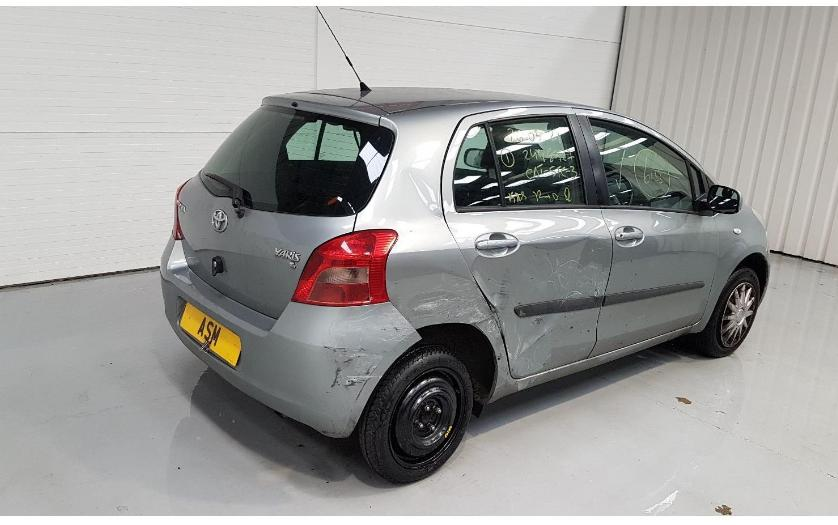Back-bumper: (161, 235, 421, 439)
Back-door: (441, 107, 612, 380)
Back-wheel: (357, 341, 474, 484)
Back-window: (489, 115, 586, 205), (454, 125, 501, 206)
Back-windshield: (200, 105, 394, 217)
Fender: (689, 203, 770, 333)
Front-door: (575, 108, 719, 357)
Front-wheel: (701, 268, 760, 358)
Front-window: (588, 118, 694, 211)
Headlight: (753, 209, 767, 231)
License-plate: (180, 303, 241, 366)
Mirror: (706, 176, 743, 217)
Quarter-panel: (354, 209, 518, 403)
Rocker-panel: (517, 326, 691, 392)
Roof: (311, 87, 604, 115)
Tail-light: (291, 229, 397, 306), (171, 179, 191, 240)
Trunk: (179, 91, 397, 319)
